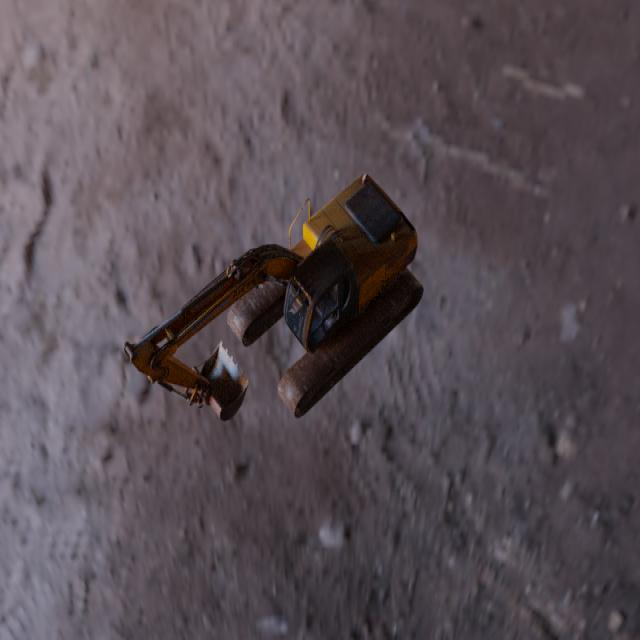excavator: (122, 172, 424, 421)
